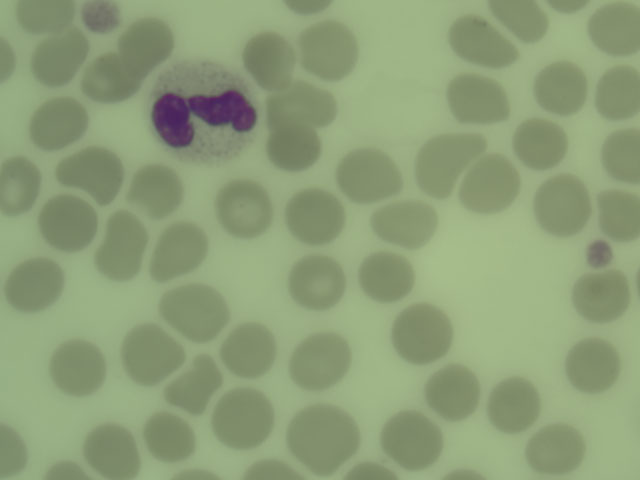RBC: (290, 400, 355, 460), (336, 149, 408, 200), (263, 78, 340, 122), (41, 191, 96, 251), (535, 173, 590, 233), (529, 417, 584, 477), (489, 375, 544, 435), (379, 403, 434, 463), (429, 360, 484, 420), (395, 302, 450, 362), (358, 248, 413, 308), (292, 329, 347, 389), (289, 251, 344, 311), (83, 420, 138, 480), (145, 400, 200, 460), (215, 384, 270, 444), (168, 351, 223, 411), (223, 315, 278, 375), (51, 338, 106, 398), (123, 323, 178, 383), (167, 279, 222, 339), (286, 184, 341, 244), (214, 177, 269, 237), (128, 162, 183, 222), (150, 220, 205, 280), (2, 254, 57, 314), (113, 29, 168, 89), (84, 49, 139, 109), (31, 26, 86, 86), (30, 95, 85, 155), (242, 27, 297, 87), (305, 21, 360, 81), (459, 152, 514, 212), (568, 332, 623, 392), (532, 59, 587, 119), (450, 67, 505, 127), (585, 1, 640, 59), (414, 129, 459, 199), (446, 18, 509, 67), (372, 199, 439, 245), (268, 116, 330, 161), (574, 268, 628, 319), (595, 128, 640, 183), (597, 68, 640, 125), (513, 117, 565, 164), (597, 180, 640, 236), (1, 151, 38, 212), (240, 447, 297, 479), (493, 1, 550, 32), (14, 1, 72, 30), (1, 421, 27, 478)
WBC: (150, 61, 244, 151)
